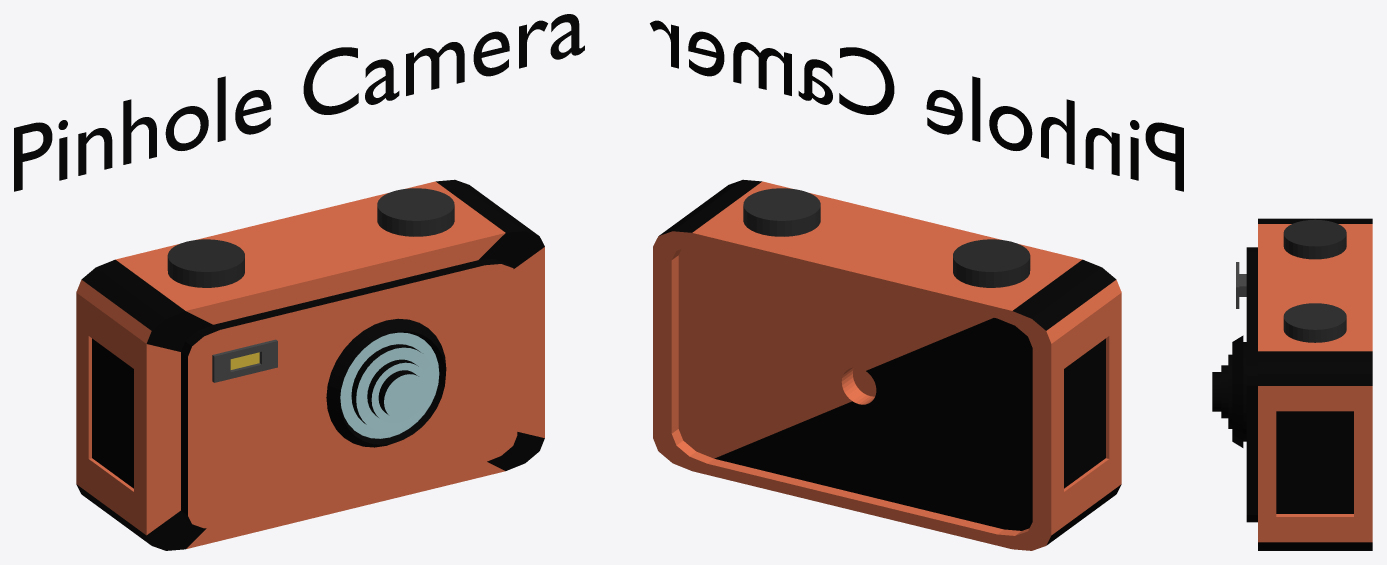
File: Pinhole camera.gltf
3 views of the same model, side by side, from view 1: azimuth 30°, elevation 25°; view 2: azimuth 150°, elevation 25°; view 3: azimuth 270°, elevation 25° (orthographic). The views are drawn at different scales.
Visible parts, largest first — view 1: Cube, Cylinder, Text, Cylinder.002, Cylinder.001, Cube.001; view 2: Cube, Text, Cylinder.002, Cylinder.001; view 3: Cube, Cylinder, Cylinder.001, Cylinder.002, Cube.001.
Part boxes in pixels (box(x1,y1,x2,y2)): Cube: box(76, 179, 544, 550); Cylinder: box(326, 318, 446, 447); Text: box(14, 14, 584, 191); Cylinder.002: box(377, 188, 454, 236); Cylinder.001: box(167, 239, 244, 287); Cube.001: box(212, 339, 277, 382); Cube: box(653, 179, 1121, 550); Text: box(650, 20, 1183, 191); Cylinder.002: box(743, 188, 820, 236); Cylinder.001: box(953, 239, 1030, 287); Cube: box(1246, 218, 1372, 550); Cylinder: box(1212, 335, 1246, 447); Cylinder.001: box(1283, 219, 1346, 259); Cylinder.002: box(1283, 303, 1346, 342); Cube.001: box(1236, 262, 1246, 308).
Bounding box in the file's own units: 6.38 × 4.59 × 1.9.
